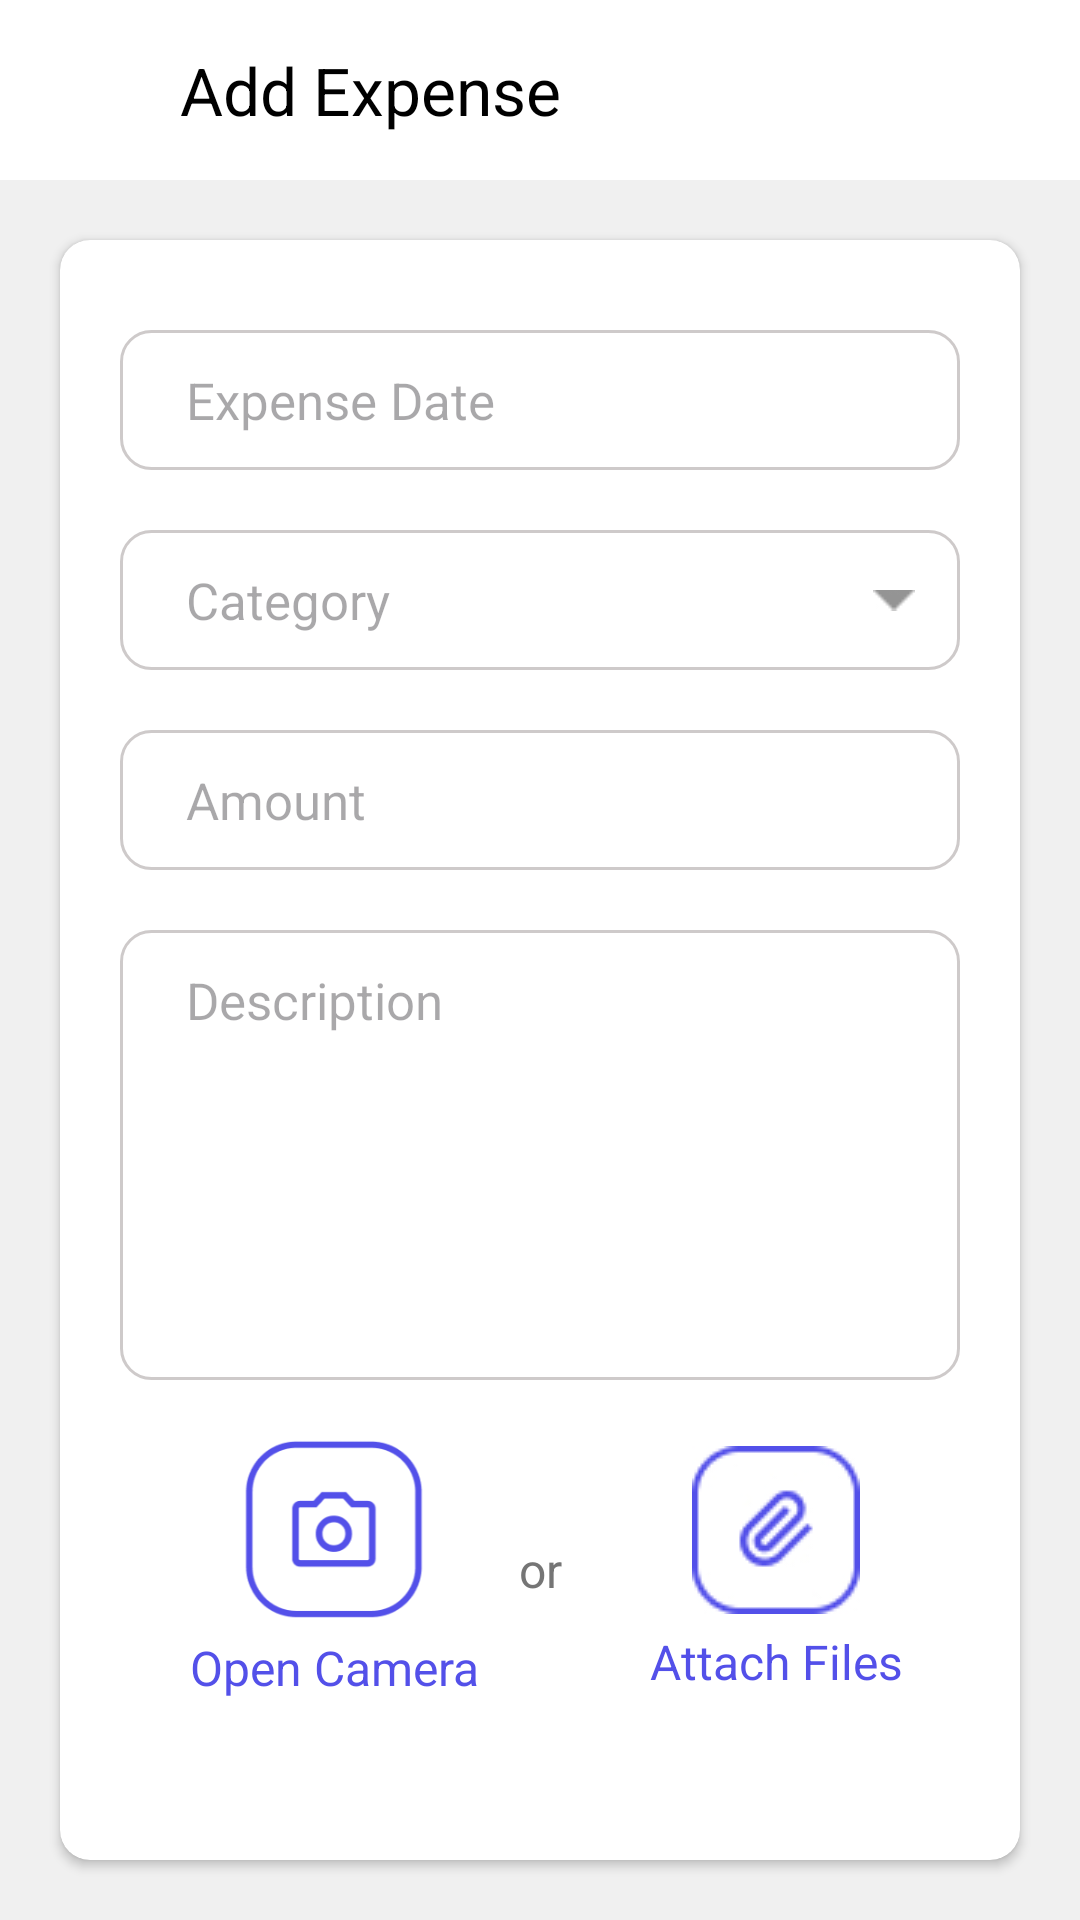

Named icons in this screenshot (1080w x 1920h) and their bounding boxes, (x1, y1, x2, y2):
drop down: (873, 590, 915, 611)
